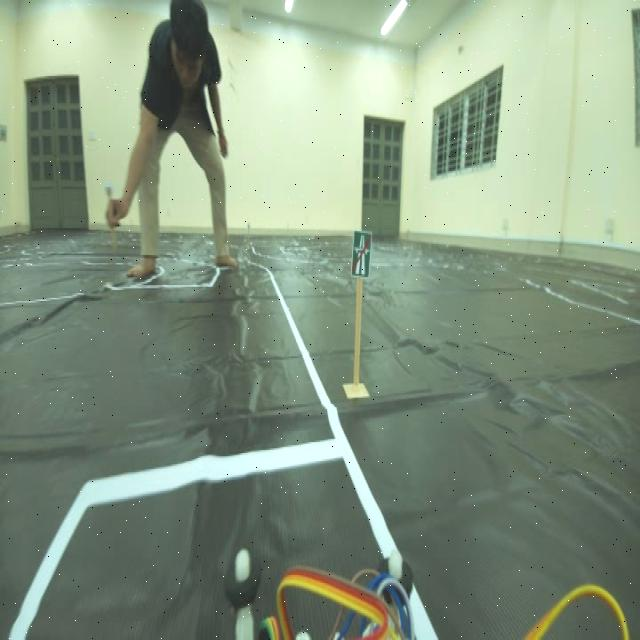highway_exit: (348, 223, 373, 289)
